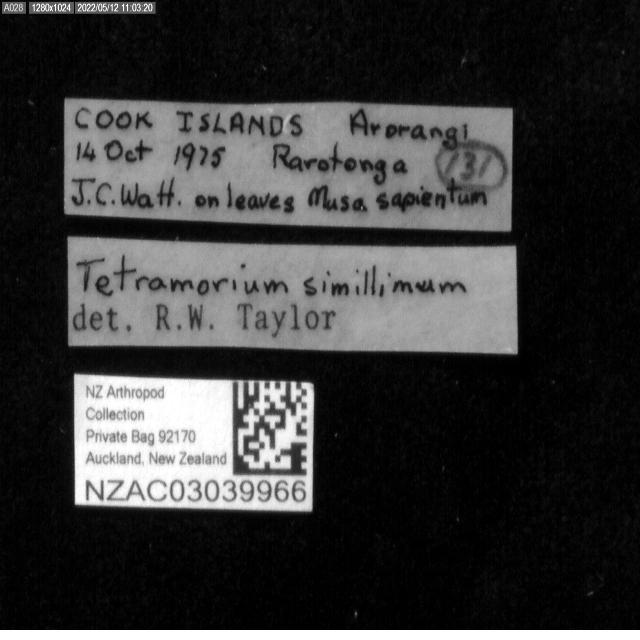hand_label: (64, 98, 512, 231)
mixed_label: (68, 236, 518, 353)
typed_label: (74, 373, 314, 511)
